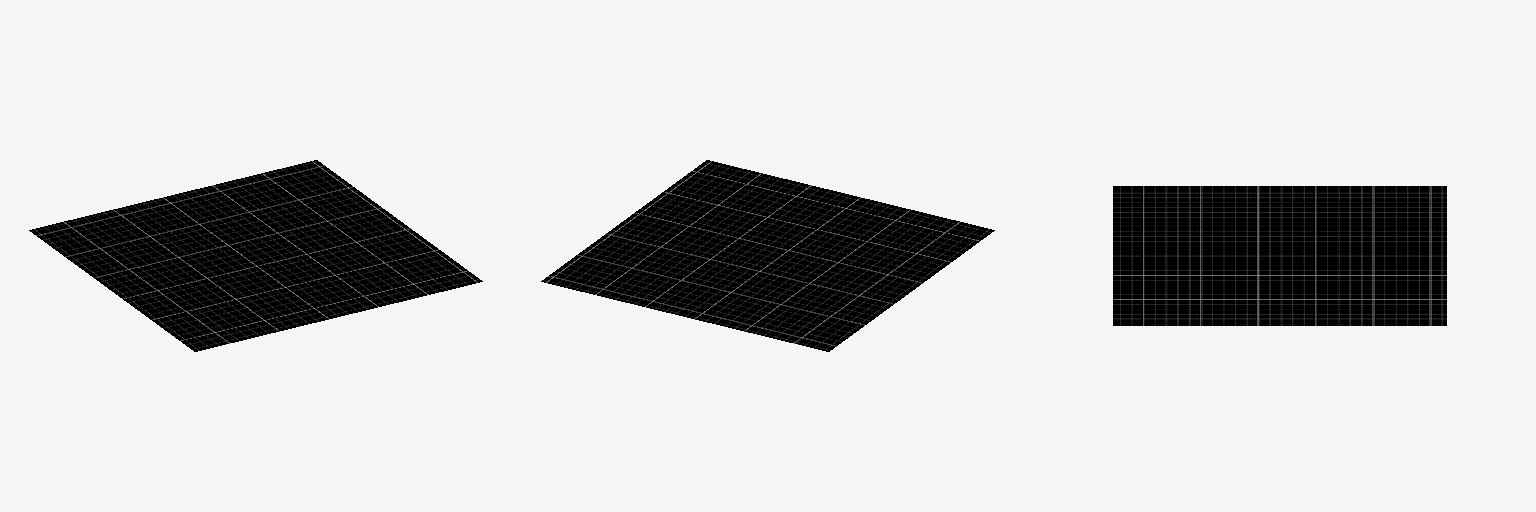
The picture shows the model from 3 angles: view 1: azimuth 30°, elevation 25°; view 2: azimuth 150°, elevation 25°; view 3: azimuth 270°, elevation 25°; orthographic projection.
Parts seen in each view (by area): view 1: Plane; view 2: Plane; view 3: Plane.
Boxes of the visible parts, x1,y1,x2,y2 form: Plane: [29, 160, 482, 351]; Plane: [541, 160, 994, 351]; Plane: [1113, 186, 1446, 325].
Bounding box in the file's own units: 2 × 0 × 2.
1 materials, 1 textured.